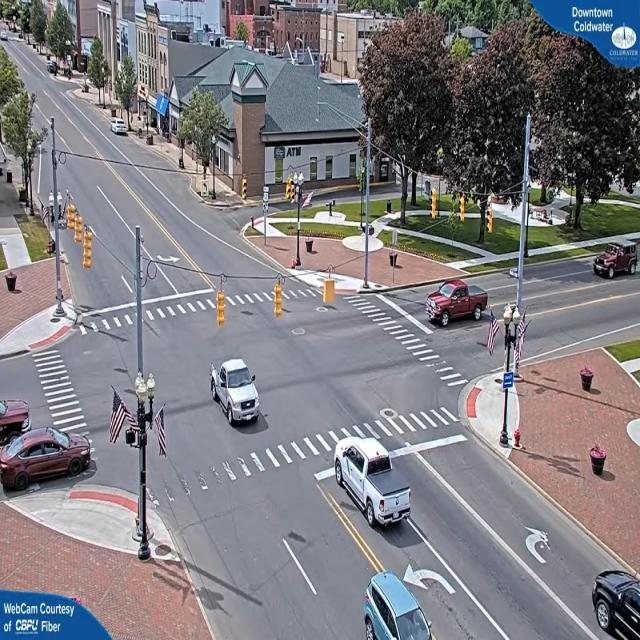car: (333, 438, 412, 531), (1, 428, 90, 492), (591, 571, 639, 640), (211, 361, 261, 426), (427, 278, 488, 326), (590, 238, 639, 280), (112, 121, 130, 138)
